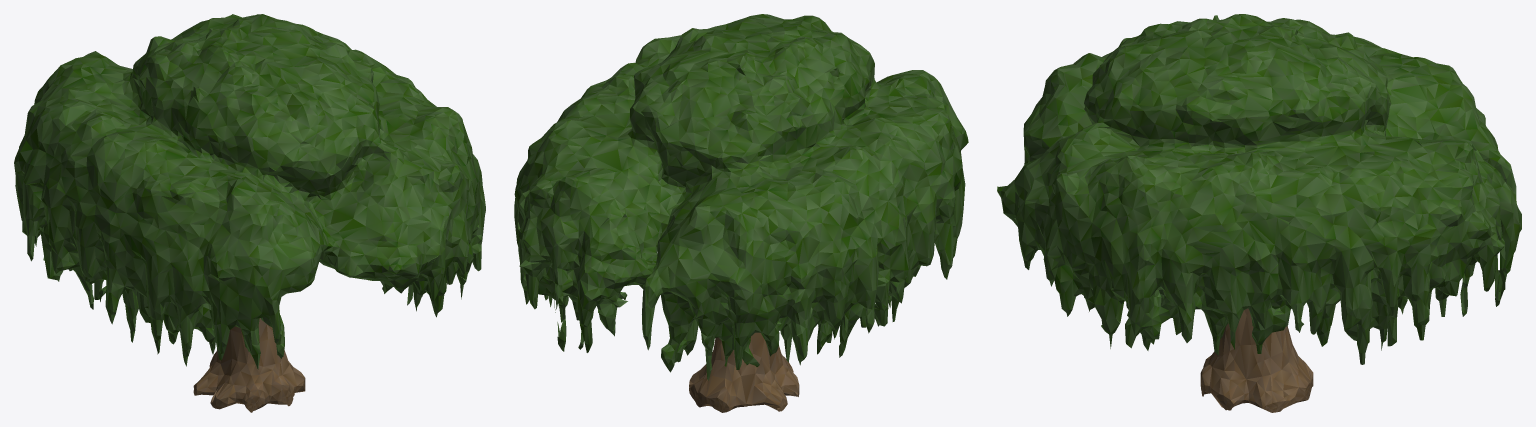
File: willow_tree.glb
3 views of the same model, side by side, from view 1: azimuth 30°, elevation 25°; view 2: azimuth 150°, elevation 25°; view 3: azimuth 270°, elevation 25° (orthographic). The views are drawn at different scales.
Parts seen in each view (by area): view 1: world; view 2: world; view 3: world.
Boxes of the visible parts, x1,y1,x2,y2 form: world: [14, 14, 485, 412]; world: [514, 14, 968, 412]; world: [997, 14, 1521, 412].
Bounding box in the file's own units: 4.49 × 4.2 × 5.57.
